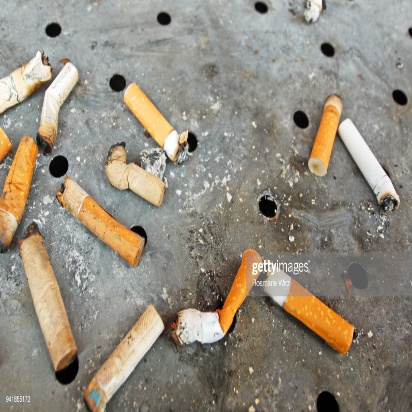cigarette: (254, 262, 360, 357), (170, 245, 264, 348), (18, 230, 83, 374), (85, 301, 166, 411), (56, 176, 149, 271), (338, 114, 403, 215), (119, 82, 200, 163), (1, 139, 43, 253), (103, 143, 171, 212), (39, 58, 83, 150), (1, 48, 56, 116), (308, 88, 342, 183)
